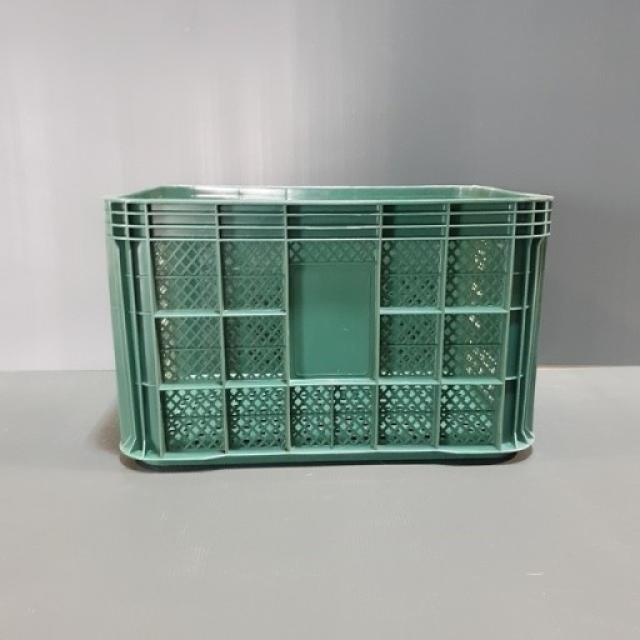basket: (107, 186, 554, 467)
